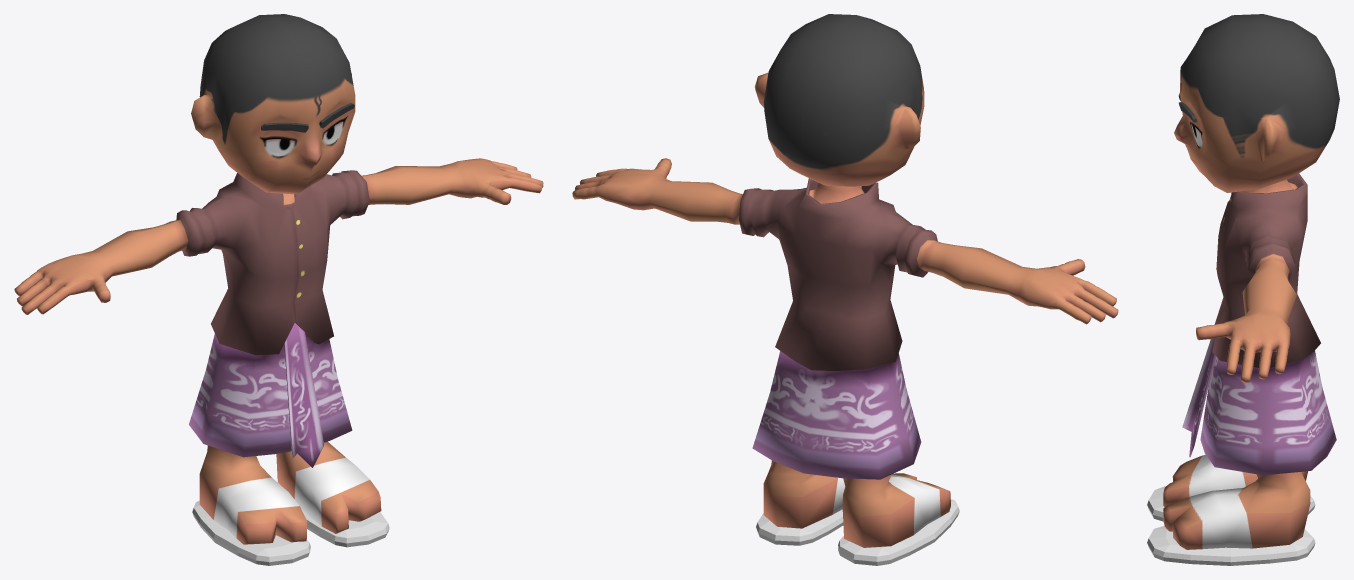
Rendered from Balinese Guy.fbx.
3 views of the same model, side by side, from view 1: azimuth 30°, elevation 25°; view 2: azimuth 150°, elevation 25°; view 3: azimuth 270°, elevation 25° (orthographic). The views are drawn at different scales.
Visible parts, largest first — view 1: Cube, Cube.004, Cube.002, Plane.002, Cube.001; view 2: Cube, Cube.004, Cube.002; view 3: Cube, Cube.004, Cube.002, Plane.002.
Part boxes in pixels (box(x1,y1,x2,y2)): Cube: box(14, 158, 543, 544); Cube.004: box(191, 14, 355, 194); Cube.002: box(192, 482, 389, 565); Plane.002: box(284, 323, 324, 467); Cube.001: box(261, 103, 354, 132); Cube: box(572, 158, 1118, 547); Cube.004: box(754, 14, 924, 186); Cube.002: box(756, 499, 959, 565); Cube: box(1163, 173, 1336, 549); Cube.004: box(1174, 14, 1339, 192); Cube.002: box(1147, 486, 1315, 565); Plane.002: box(1182, 338, 1215, 457).
Bounding box in the file's own units: 868 × 792 × 272.
3 materials, 2 textured.
